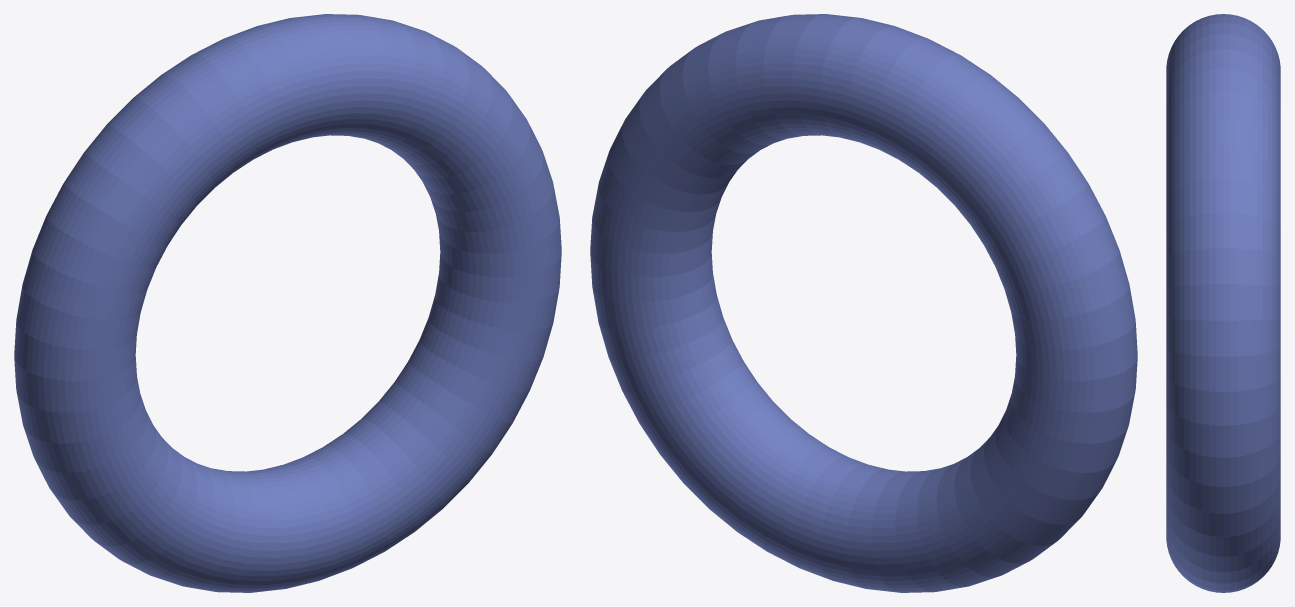
3 renders of one model, left to right at view 1: azimuth 30°, elevation 25°; view 2: azimuth 150°, elevation 25°; view 3: azimuth 270°, elevation 25°, orthographic. The views are drawn at different scales.
Visible parts, largest first — view 1: world; view 2: world; view 3: world.
Boxes of the visible parts, box(x1,y1,x2,y2) form: world: box(14, 14, 561, 592); world: box(590, 14, 1137, 592); world: box(1166, 14, 1280, 592).
Bounding box in the file's own units: 14.13 × 14.11 × 2.79.
